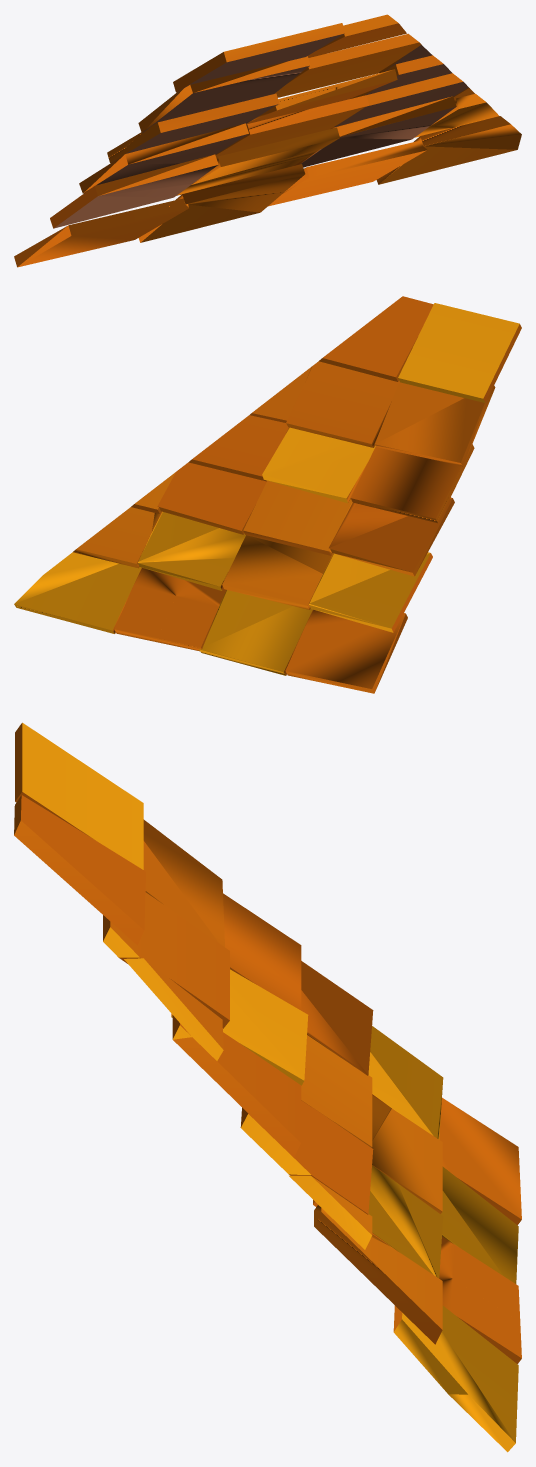
The model's file is roof wood 1.fbx.
3 renders of one model, top to bottom at view 1: azimuth 30°, elevation 25°; view 2: azimuth 150°, elevation 25°; view 3: azimuth 270°, elevation 25°, orthographic. The views are drawn at different scales.
Visible parts, largest first — view 1: roof_wood_1; view 2: roof_wood_1; view 3: roof_wood_1.
Part boxes in pixels (<box>): roof_wood_1: <box>14,14,521,267</box>; roof_wood_1: <box>14,296,521,693</box>; roof_wood_1: <box>14,722,521,1452</box>.
Size of the model in its own units: 274 by 194 by 201.
1 material, 1 textured.
